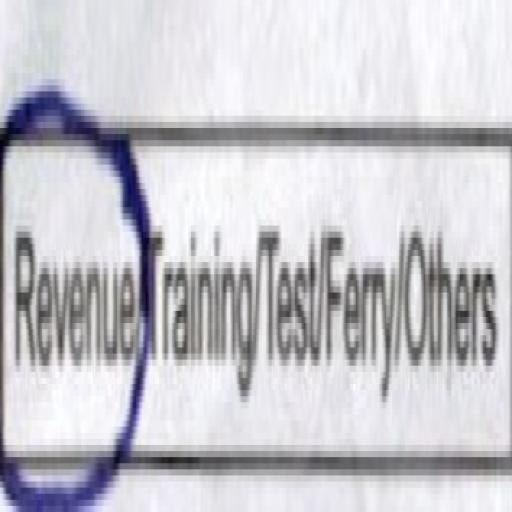check: (1, 45, 141, 512)
